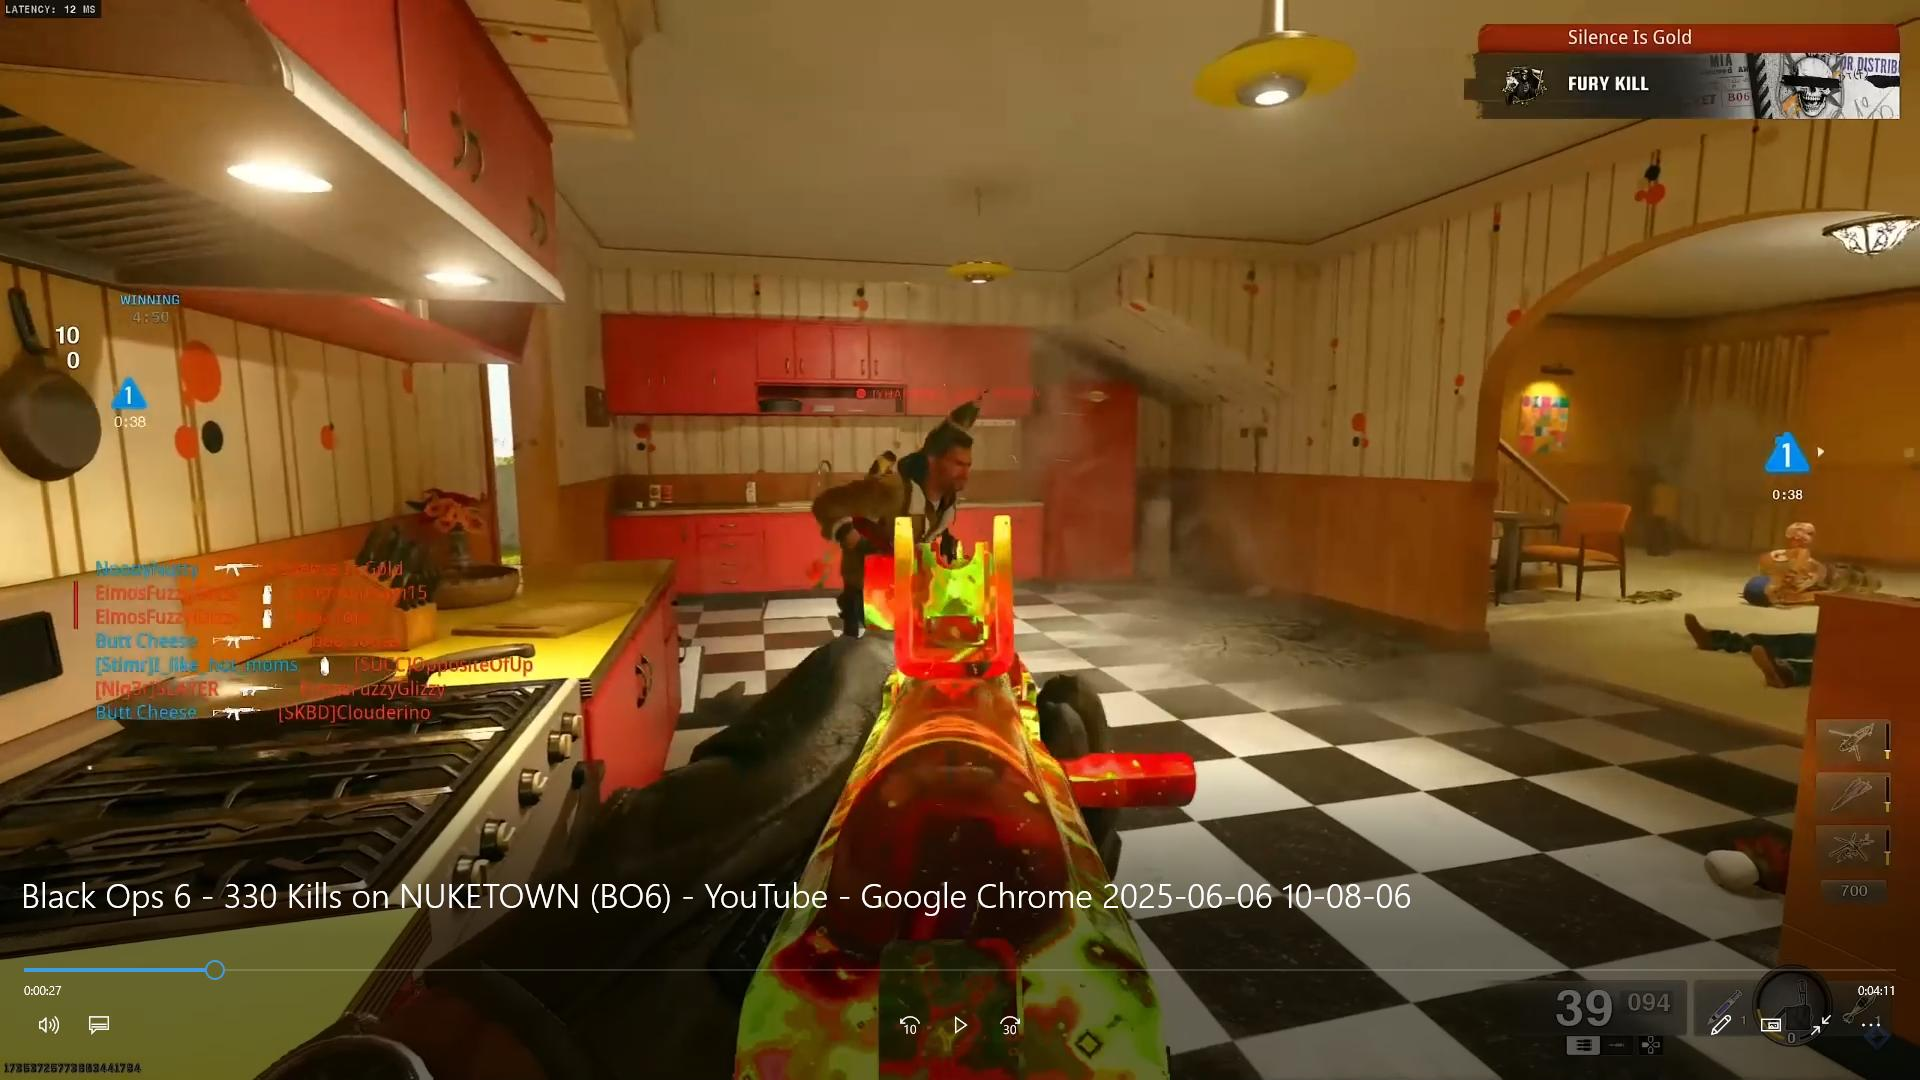Enemy: (852, 398, 990, 533)
